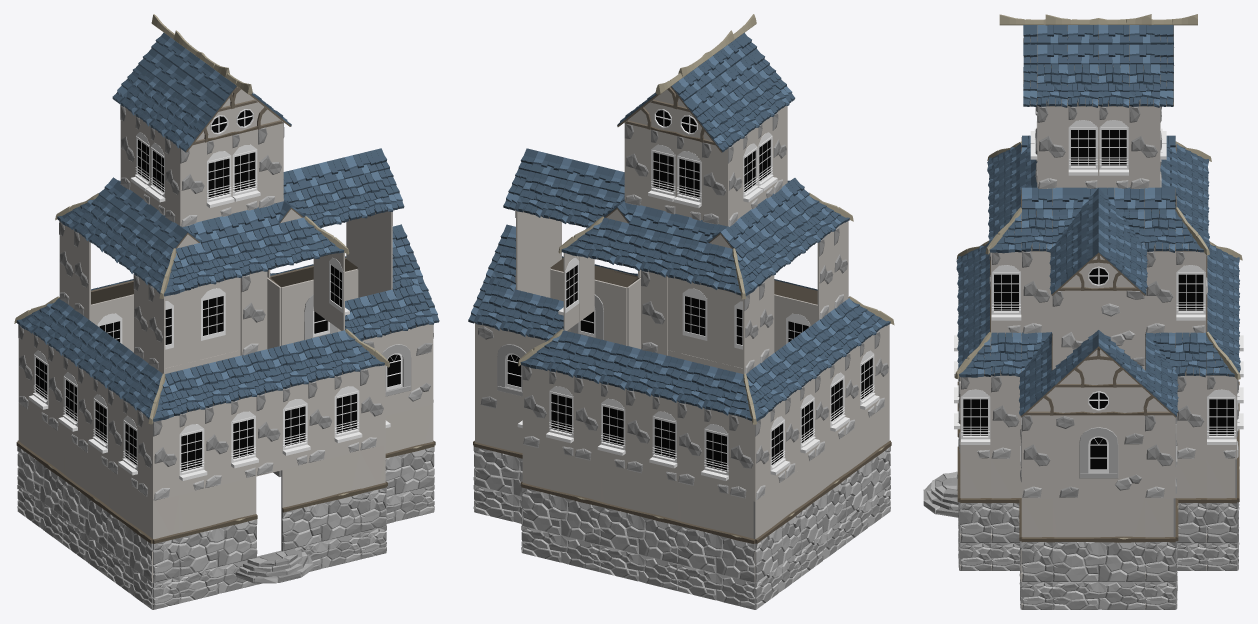
The model's file is HOUSE_3_PARTS.fbx.
3 renders of one model, left to right at view 1: azimuth 30°, elevation 25°; view 2: azimuth 150°, elevation 25°; view 3: azimuth 270°, elevation 25°, orthographic. The views are drawn at different scales.
Parts seen in each view (by area): view 1: WALL_01_13, WALL_01_14, WINDOW_07_6, WALL_01_23, WALL_01_15, WALL_01_16, WALL_01_17, WALL_05_2, WINDOW_07_7, WALL_03_21, WINDOW_01_28, WALL_03_4 (+97 smaller); view 2: WALL_01_18, WALL_01_19, WALL_01_20, WINDOW_07_7, WALL_01_21, WALL_01_17, WALL_01_15, WALL_01_16, WINDOW_07_6, WALL_05_2, WINDOW_01_37, WINDOW_01_34 (+93 smaller); view 3: WALL_01_22, WINDOW_07_5, WALL_05_2, WALL_03_8, WINDOW_01_48, WALL_04_22, WINDOW_01_39, WALL_03_33, WINDOW_01_38, FOUNDATION_01_11, WALL_03_9, WINDOW_01_40 (+82 smaller).
Part boxes in pixels (x1,y1,x2,y2): WALL_01_13: [281, 451, 360, 551]; WALL_01_14: [179, 476, 257, 576]; WINDOW_07_6: [362, 324, 433, 415]; WALL_01_23: [385, 404, 434, 496]; WALL_01_15: [106, 469, 154, 582]; WALL_01_16: [61, 436, 108, 549]; WALL_01_17: [16, 404, 63, 516]; WALL_05_2: [346, 211, 392, 290]; WINDOW_07_7: [281, 269, 358, 345]; WALL_03_21: [240, 271, 267, 355]; WINDOW_01_28: [230, 396, 258, 482]; WALL_03_4: [256, 390, 282, 476]; WALL_01_18: [676, 483, 756, 582]; WALL_01_19: [599, 464, 677, 563]; WALL_01_20: [521, 445, 600, 544]; WINDOW_07_7: [475, 323, 545, 415]; WALL_01_21: [473, 405, 522, 496]; WALL_01_17: [753, 469, 802, 582]; WALL_01_15: [844, 404, 891, 516]; WALL_01_16: [800, 436, 846, 549]; WINDOW_07_6: [550, 269, 627, 345]; WALL_05_2: [515, 210, 561, 290]; WINDOW_01_37: [546, 370, 574, 457]; WINDOW_01_34: [701, 408, 729, 495]; WALL_01_22: [1052, 498, 1144, 581]; WINDOW_07_5: [1052, 415, 1144, 498]; WALL_05_2: [1052, 290, 1144, 369]; WALL_03_8: [1021, 415, 1052, 498]; WINDOW_01_48: [1098, 106, 1129, 188]; WALL_04_22: [1021, 498, 1052, 581]; WINDOW_01_39: [1175, 251, 1206, 333]; WALL_03_33: [1129, 106, 1160, 188]; WINDOW_01_38: [1206, 375, 1236, 459]; FOUNDATION_01_11: [1052, 582, 1144, 609]; WALL_03_9: [1145, 415, 1175, 498]; WINDOW_01_40: [960, 376, 990, 459].
Size of the model in its own units: 1244 by 1786 by 1040.
